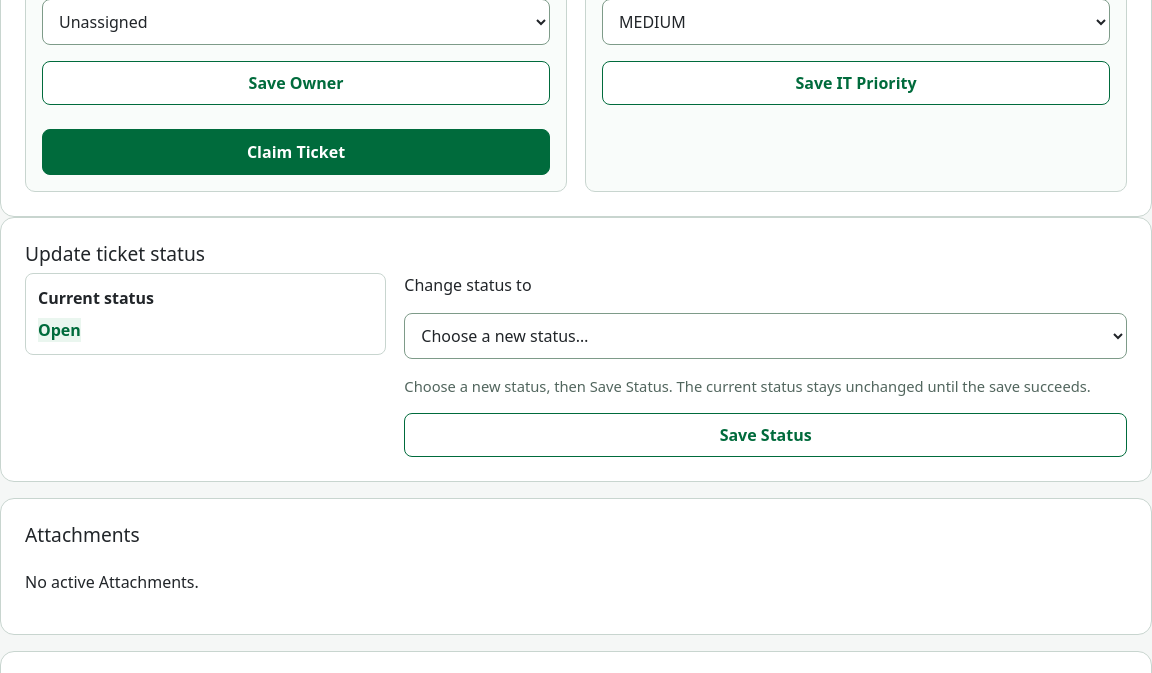
blocks cancellation while unfinished actions remain, but allows cancellation without completed work
(page scrolled)
Select "Cancelled" in the dropdown labelled "Change status to" at (766, 336), box [404, 313, 1127, 359]
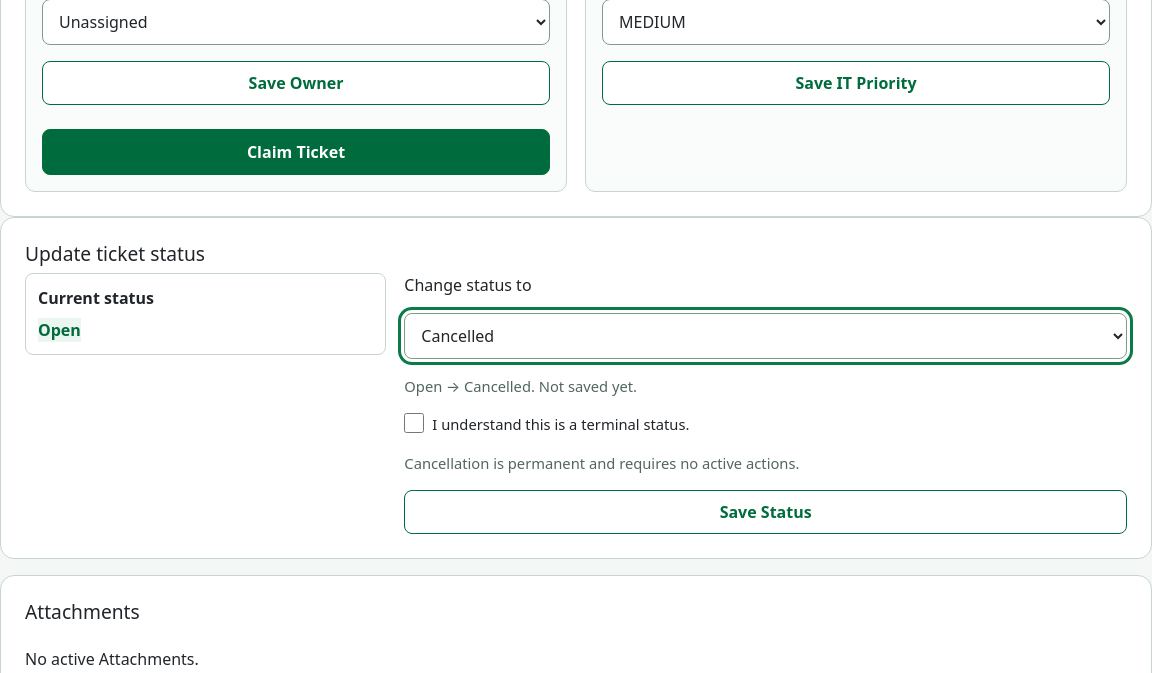
Click the checkbox labelled "I understand this is a terminal status." at (414, 423), box [404, 413, 424, 433]
(page scrolled)
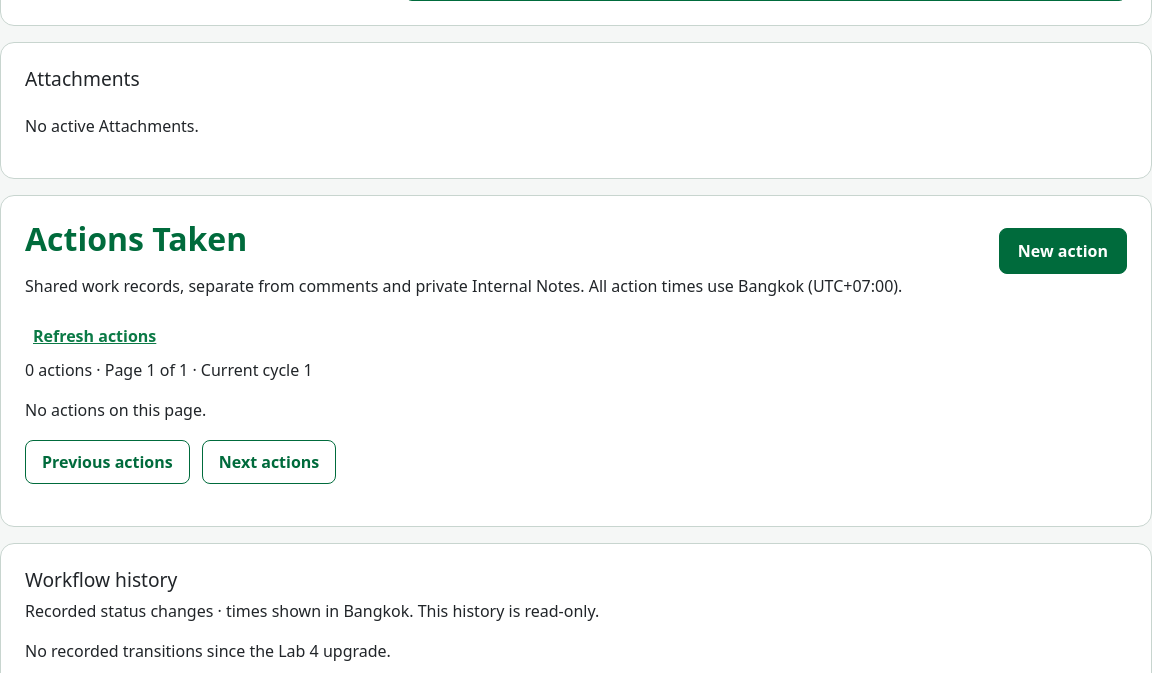
Click the button "Refresh actions" at (95, 336), box [25, 314, 164, 358]
(page scrolled)
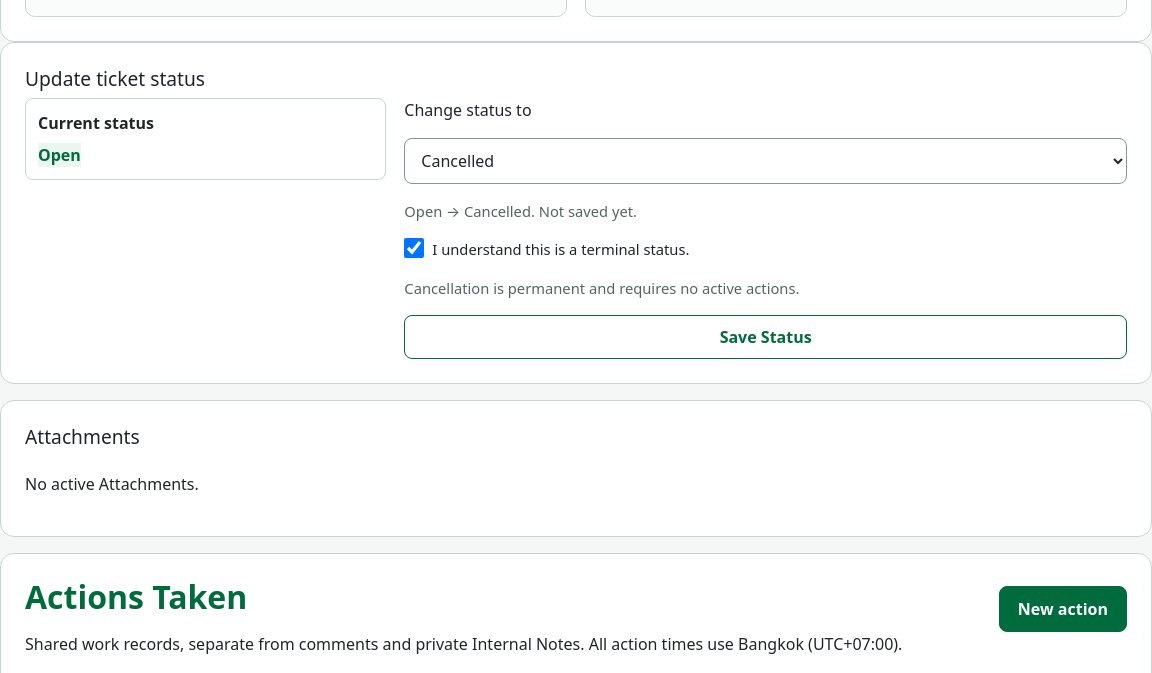
Now the button "Save Status" is enabled, box [404, 315, 1127, 359]
